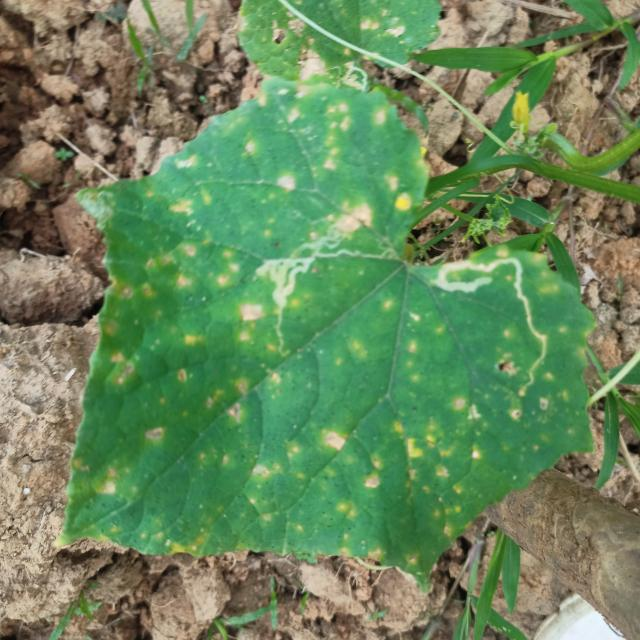disease_cucumber: (75, 94, 576, 561)
